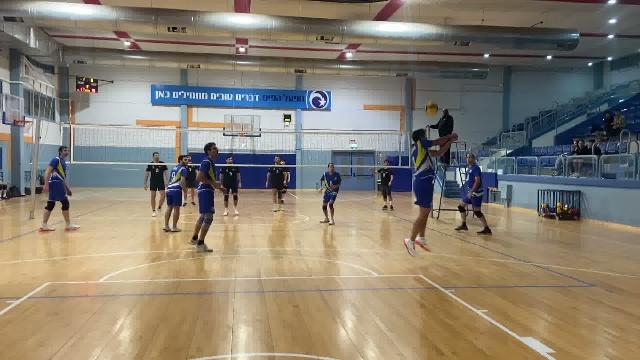ball: (422, 101, 441, 116)
